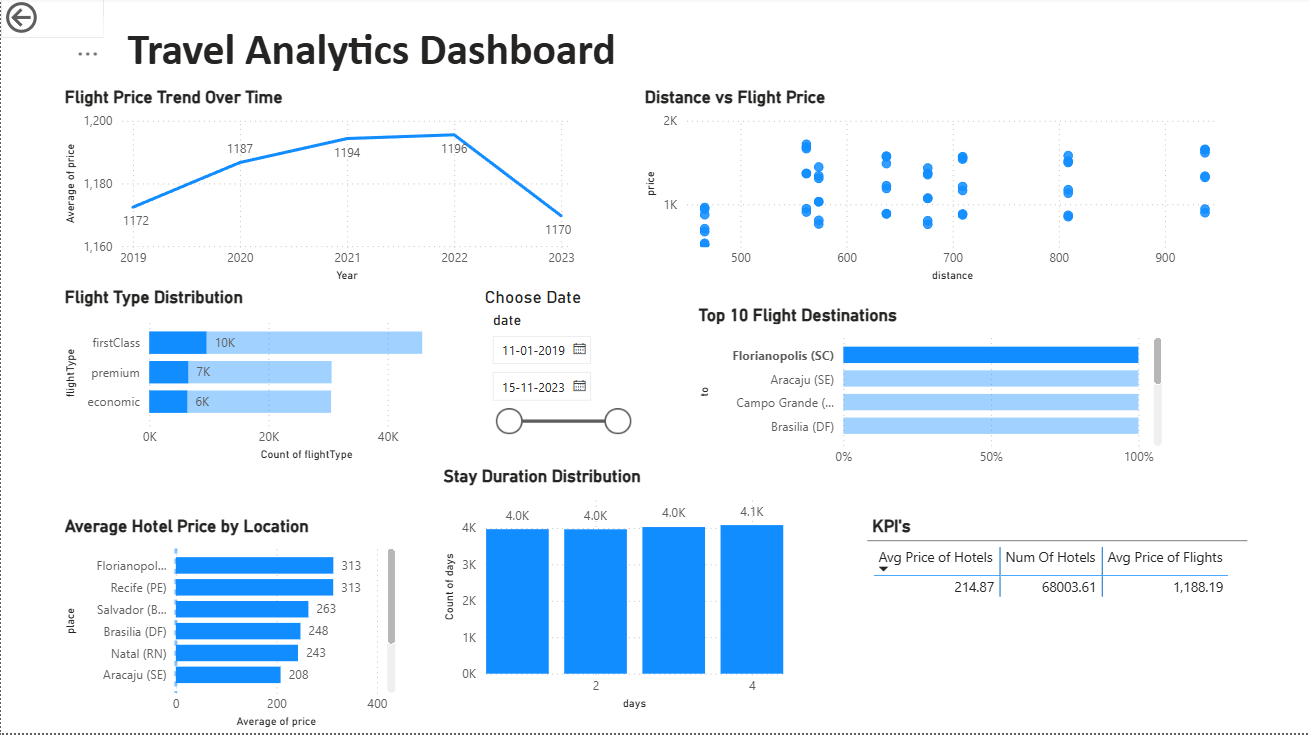

This screenshot's page, from the dashboard's own definition file:
{"tool":"powerbi","page":{"name":"Travel Analytics Dashboard","canvas":[1280,720],"ordinal":0},"visuals":[{"type":"lineChart","title":"Flight Price Trend Over Time","fields":{"Category":["flights.date.Variation.Date Hierarchy.Year","flights.date.Variation.Date Hierarchy.Quarter","flights.date.Variation.Date Hierarchy.Month","flights.date.Variation.Date Hierarchy.Day"],"Y":["Avg(flights.price)"]},"box":[57.5,88,508.7,195.7],"z":0},{"type":"scatterChart","title":"Distance vs Flight Price","fields":{"X":["flights.distance"],"Y":["flights.price"]},"box":[624.9,88,580.8,195.7],"z":1},{"type":"barChart","title":"Flight Type Distribution","fields":{"Y":["CountNonNull(flights.flightType)"],"Category":["flights.flightType"]},"box":[57.5,283.7,410.9,174.9],"z":2},{"type":"hundredPercentStackedBarChart","title":"Top 10 Flight Destinations","fields":{"Category":["flights.to"],"Y":["CountNonNull(flights.to)"]},"box":[677.4,300.8,463.5,167.5],"z":3},{"type":"barChart","title":"Average Hotel Price by Location","fields":{"Y":["Avg(hotels.price)"],"Category":["hotels.place"]},"box":[57,507.4,333.5,212.4],"z":4},{"type":"actionButton","box":[0,0,100,40],"z":5},{"type":"columnChart","title":"Stay Duration Distribution","fields":{"Category":["hotels.days"],"Y":["CountNonNull(hotels.days)"]},"box":[428,458.6,342.4,243.3],"z":6},{"type":"tableEx","title":"KPI''s","fields":{"Values":["Avg(hotels.price)","hotels.travelCode","Avg(flights.price)"]},"box":[847.4,507.5,371.7,106.4],"z":7},{"type":"textbox","box":[99.8,20,524.5,68.4],"z":8},{"type":"slicer","title":"Choose Date","fields":{"Values":["flights.date"]},"box":[468,284,157,175],"z":9}]}

Visuals, with their boxes in screenshot pixels (x1, y1, x2, y2), scaled from the page's 1280x720 canvas onto the 1309x738 screenshot:
"Flight Price Trend Over Time" lineChart: (left=59, top=90, right=579, bottom=291)
"Distance vs Flight Price" scatterChart: (left=639, top=90, right=1233, bottom=291)
"Flight Type Distribution" barChart: (left=59, top=291, right=479, bottom=470)
"Top 10 Flight Destinations" hundredPercentStackedBarChart: (left=693, top=308, right=1167, bottom=480)
"Average Hotel Price by Location" barChart: (left=58, top=520, right=399, bottom=737)
actionButton: (left=0, top=0, right=102, bottom=41)
"Stay Duration Distribution" columnChart: (left=438, top=470, right=788, bottom=719)
"KPI''s" tableEx: (left=867, top=520, right=1247, bottom=629)
textbox: (left=102, top=20, right=638, bottom=91)
"Choose Date" slicer: (left=479, top=291, right=639, bottom=470)
